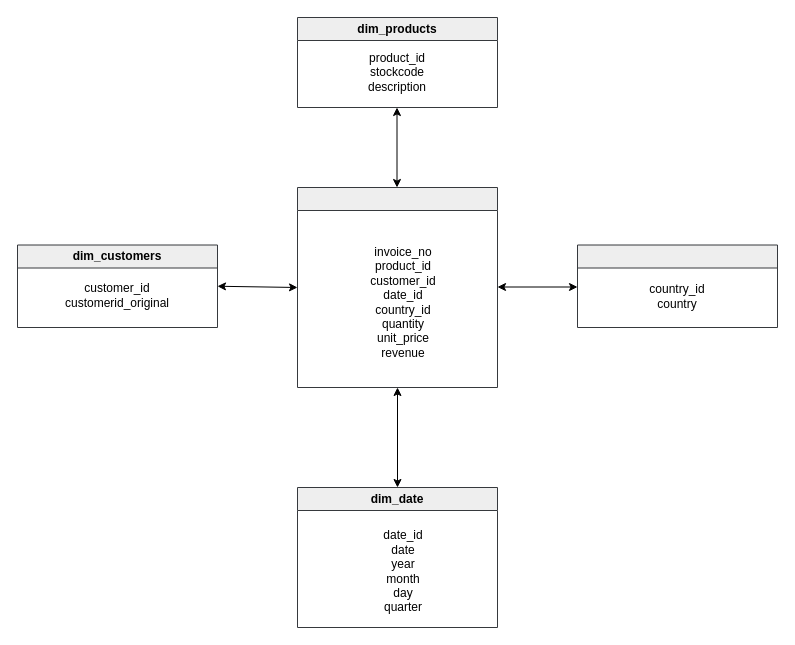
This 795x645 diagram has some shape labels left out. Each missing label, with the box of its shape:
dim_country: (576, 244, 778, 328)
fact_sales: (296, 186, 498, 388)
